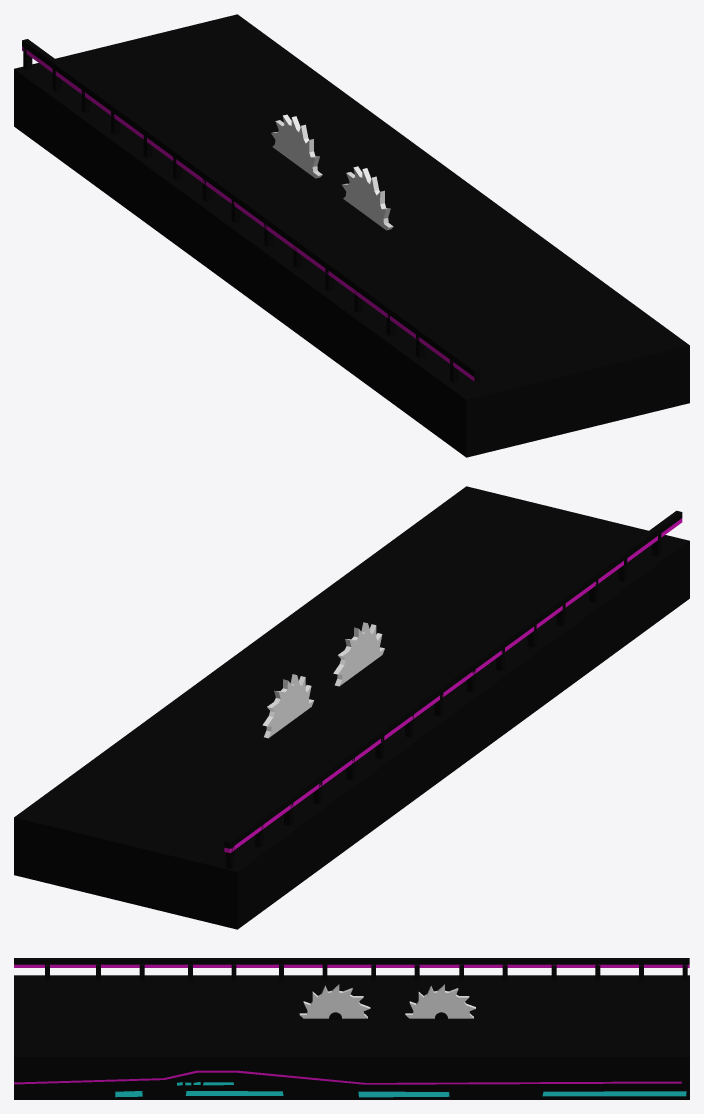
The model's file is testeretile.fbx.
3 renders of one model, top to bottom at view 1: azimuth 30°, elevation 25°; view 2: azimuth 150°, elevation 25°; view 3: azimuth 270°, elevation 25°, orthographic. The views are drawn at different scales.
Visible parts, largest first — view 1: Cube.055, Circle, Circle.001; view 2: Cube.055, Circle.001, Circle; view 3: Cube.055, Circle, Circle.001.
Boxes of the visible parts, bbox=[...] form: Cube.055: bbox=[14, 14, 689, 457]; Circle: bbox=[342, 166, 393, 230]; Circle.001: bbox=[271, 114, 322, 178]; Cube.055: bbox=[14, 486, 689, 929]; Circle.001: bbox=[262, 674, 313, 738]; Circle: bbox=[333, 622, 384, 686]; Cube.055: bbox=[14, 958, 689, 1099]; Circle: bbox=[299, 984, 370, 1019]; Circle.001: bbox=[405, 984, 475, 1019].
Size of the model in its own units: 200 by 86.84 by 701.
